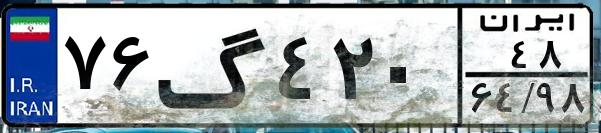0: (385, 28, 445, 110)
2: (330, 28, 385, 110)
4: (270, 28, 330, 110), (508, 27, 537, 80), (495, 70, 520, 125)
6: (110, 28, 156, 98), (470, 70, 495, 125)
7: (57, 26, 110, 100)
8: (560, 70, 590, 125), (537, 27, 568, 80)
9: (535, 70, 560, 125)
گ: (156, 12, 270, 120)
